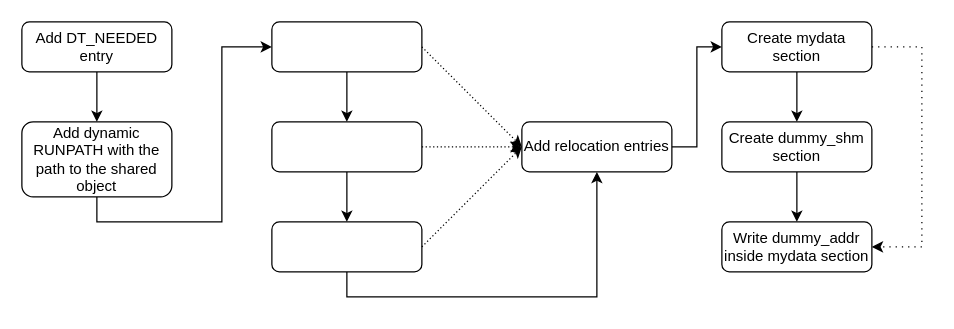
Image size: 954x329. Some labels were removed from this diagram. The centre of each missing label's shape, as x and y in pixels:
Create __afl_area_ptr symbol: (x=346, y=146)
Create __forkserver_start_ptr symbol: (x=346, y=246)
Create my_got section: (x=346, y=46)
